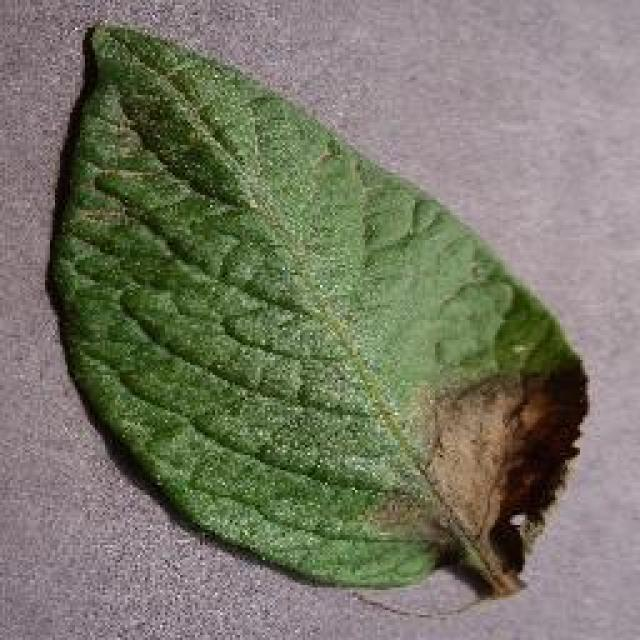late_blight: (40, 15, 592, 605)
